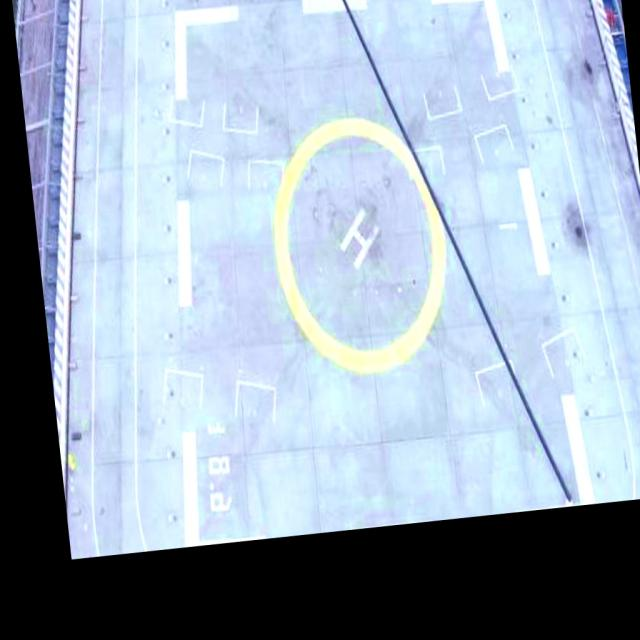helipad: (263, 107, 456, 381)
